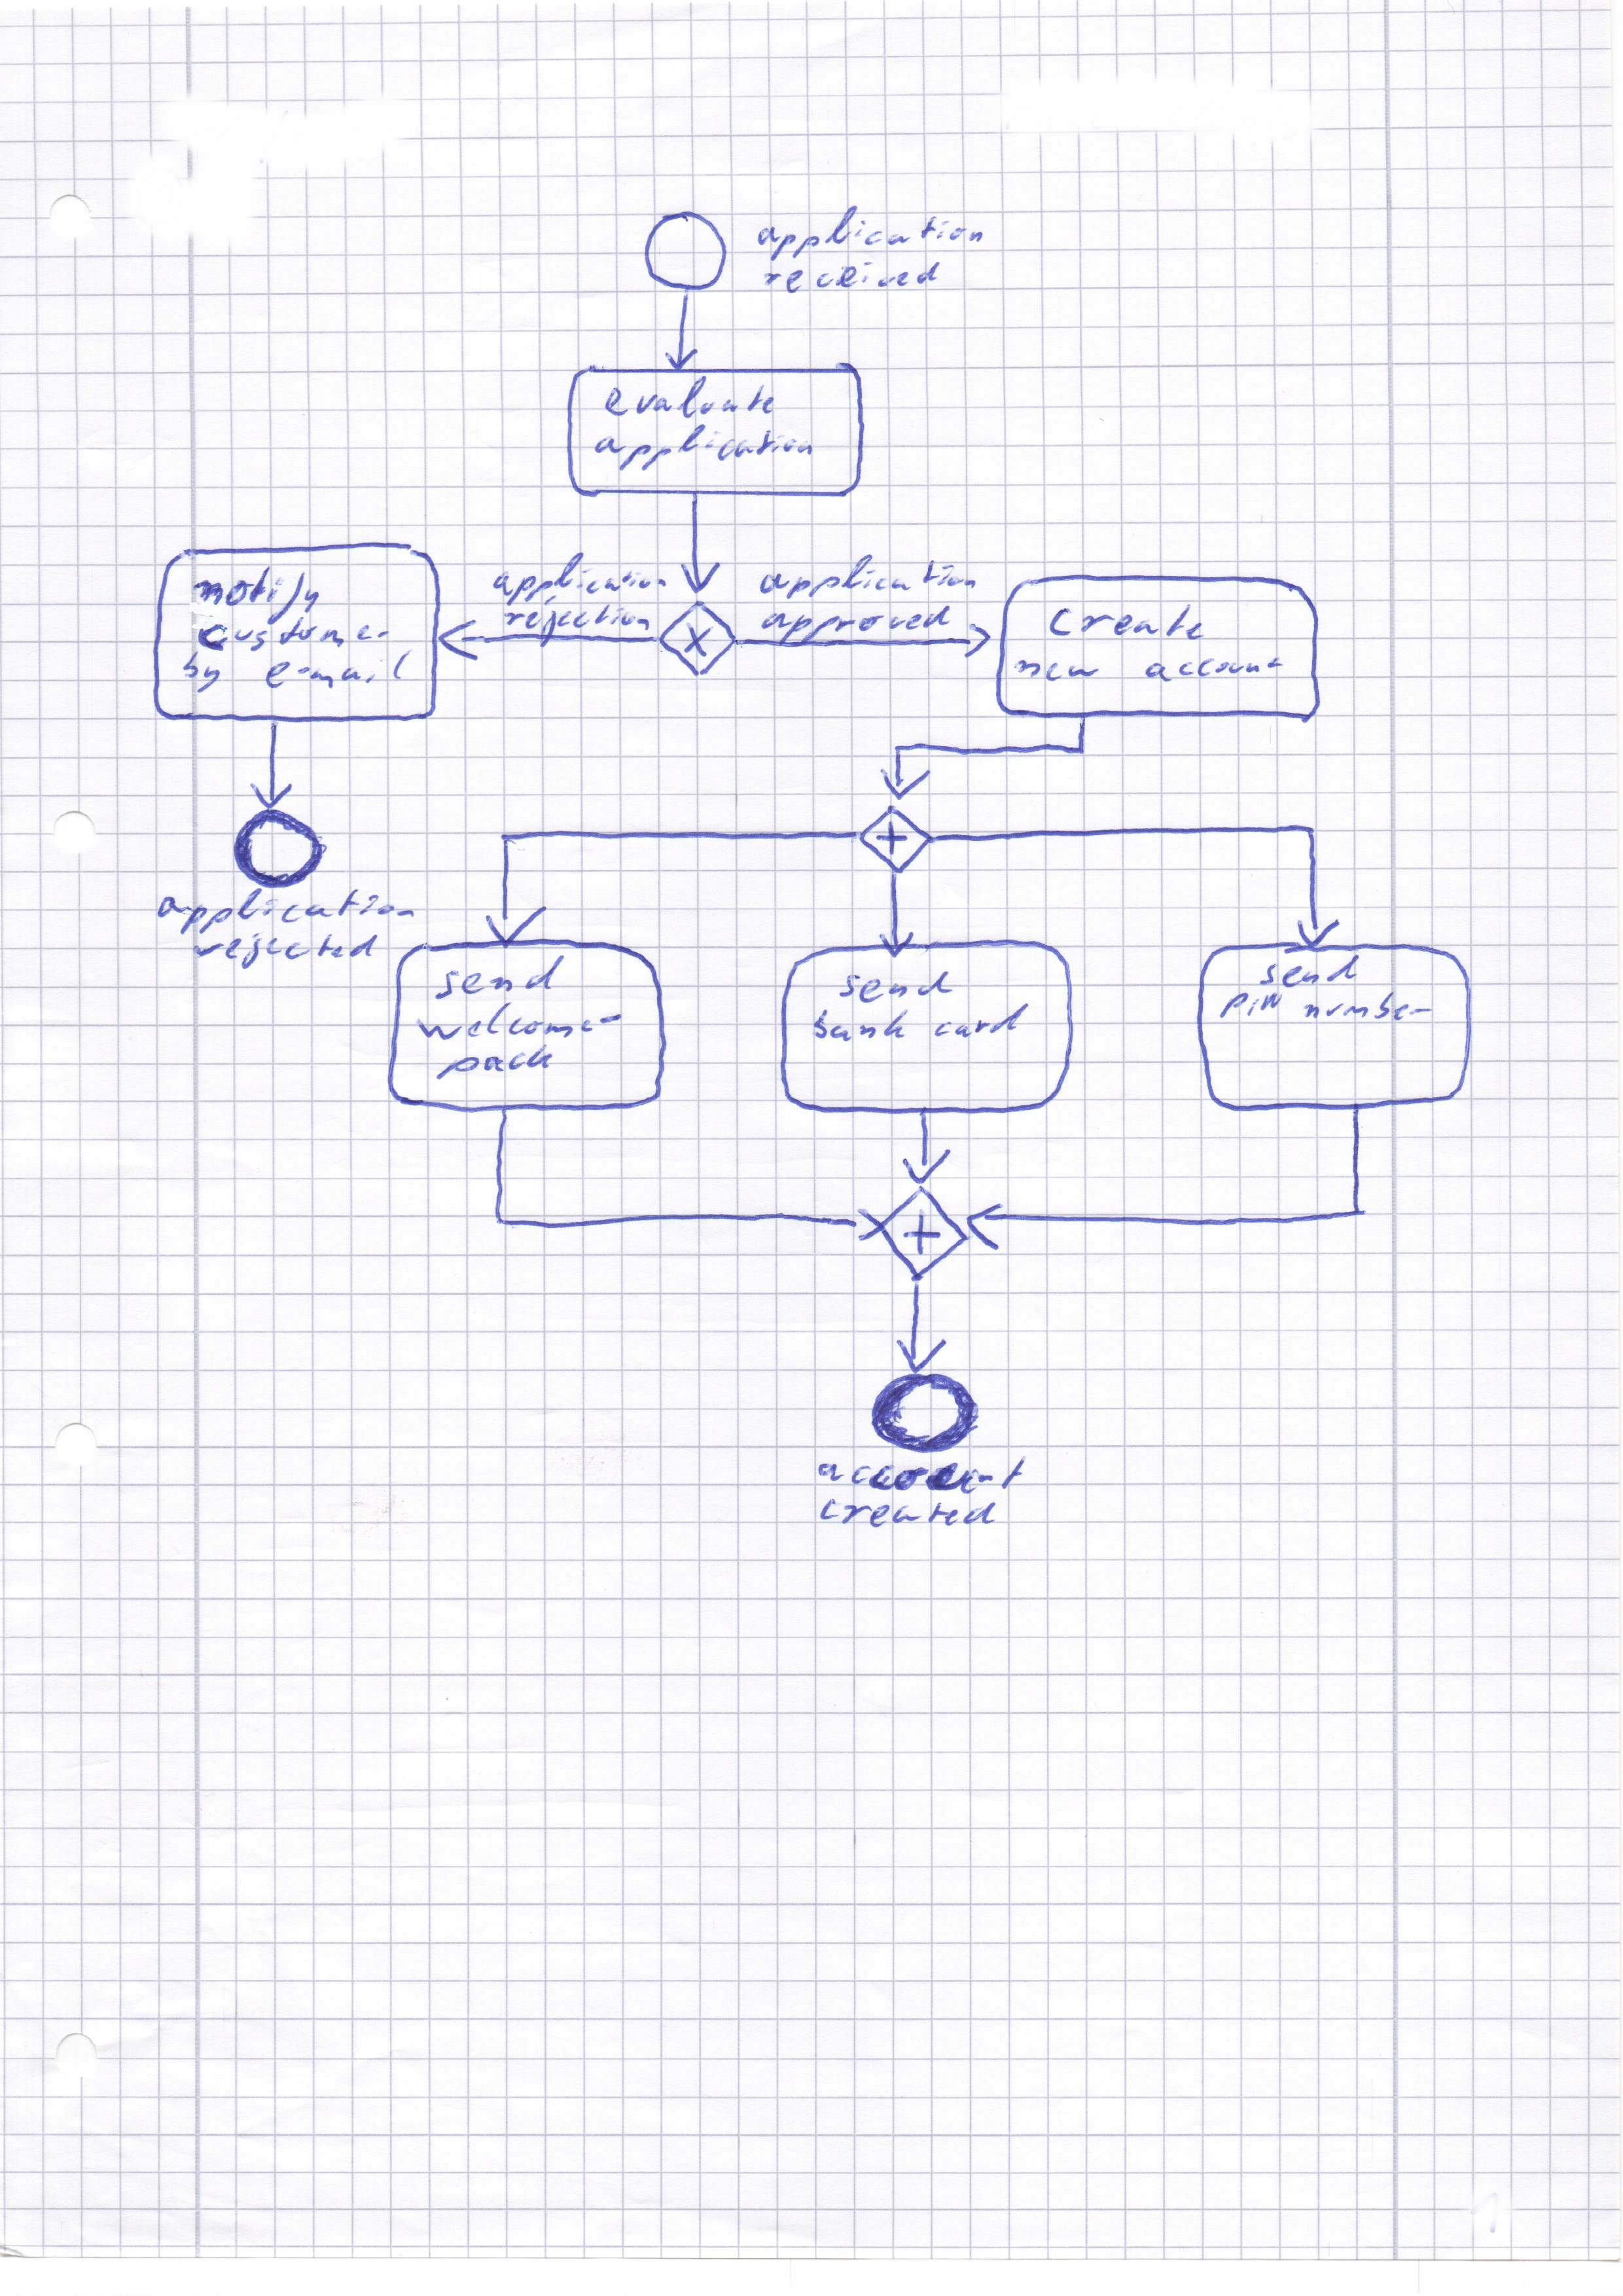PIN: (1212, 987, 1300, 1022)
account: (796, 1444, 1033, 1493), (1135, 646, 1295, 687)
application: (755, 200, 994, 262), (755, 545, 982, 604), (590, 416, 819, 471), (156, 889, 418, 936), (483, 548, 676, 606)
approved: (759, 603, 956, 641)
bank: (810, 1008, 924, 1049)
by: (172, 652, 242, 701)
card: (934, 1003, 1035, 1045)
create: (1049, 596, 1212, 645)
created: (819, 1495, 1003, 1530)
customer: (190, 617, 404, 655)
email: (263, 652, 416, 697)
evaluate: (602, 372, 790, 423)
motily: (184, 560, 327, 624)
new: (1005, 646, 1107, 687)
number: (1296, 991, 1440, 1026)
pack: (429, 1043, 562, 1082)
received: (748, 256, 947, 297)
rejected: (183, 929, 388, 970)
rejection: (494, 594, 650, 645)
send: (427, 952, 569, 1005), (1258, 952, 1372, 993), (838, 968, 961, 1005)
welcome-pack: (408, 1001, 636, 1093)
